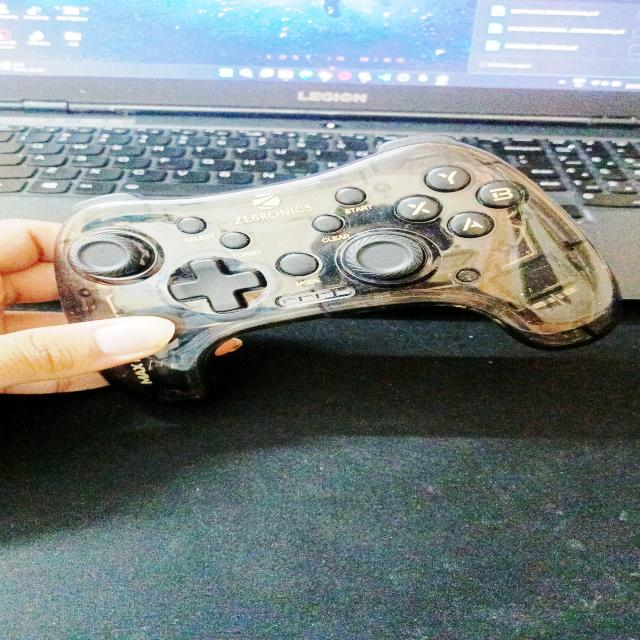gamepad: (52, 135, 620, 404)
